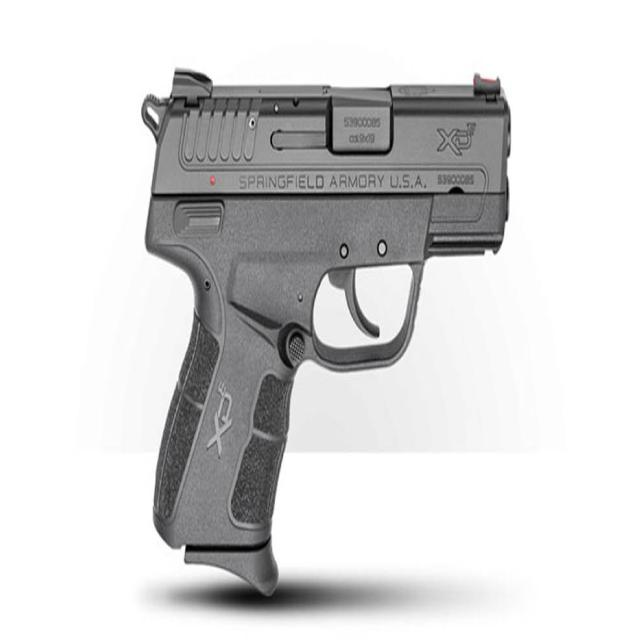HandGun: (143, 70, 512, 599)
